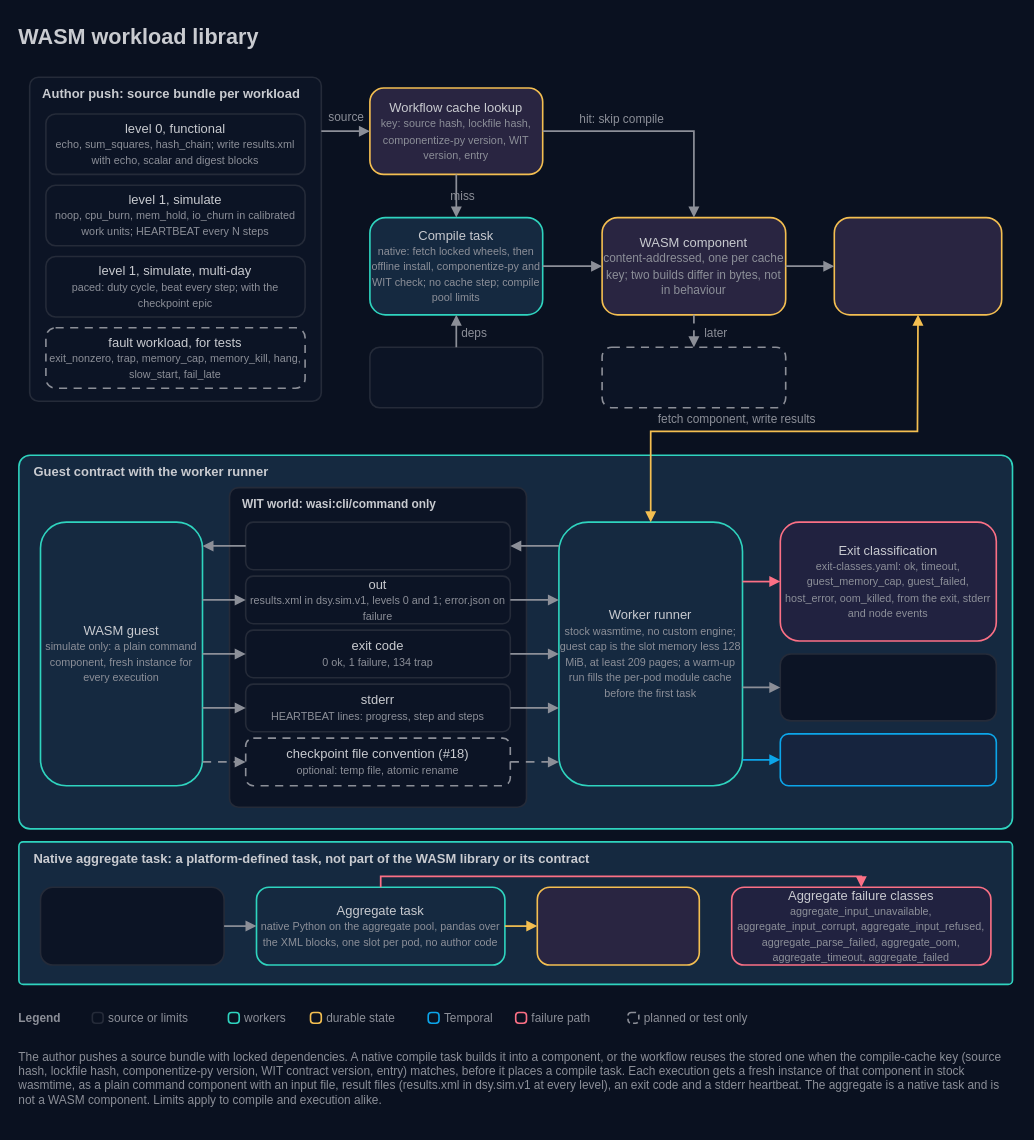
The diagram is 1034 pixels wide and 1140 high, and some of its shapes have lost their labels. Each missing label, with the centre of its shape:
Execution limits memory cap, CPU limit, timeout, pod limits: (x=888, y=687)
in /in/input.json: (x=377, y=545)
Input XML result blocks from dsy-results, listed by the aggregate index: (x=131, y=925)
Native .cwasm precompile, later optimisation: (x=693, y=377)
Package mirror optional, compile pool only: (x=456, y=377)
S3-compatible buckets sources, components, results, checkpoints: (x=917, y=265)
Summary summary.json, written to dsy-results: (x=618, y=925)
Temporal activity: heartbeat, result: (x=888, y=759)
